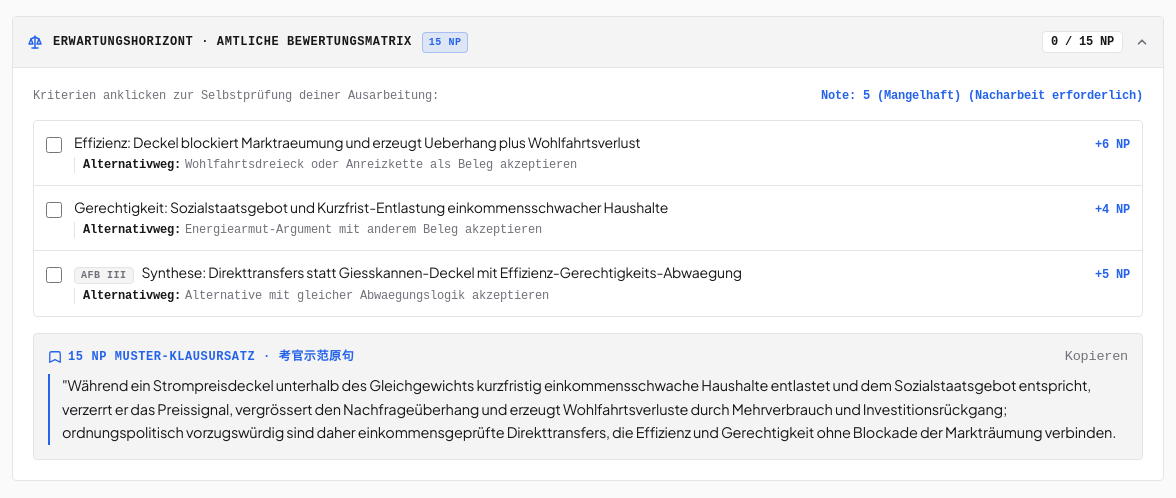
Test case: v5 Didactic Components & Parser Standalone Tests › ErwartungshorizontDrawer component tests › toggles collapse and expand
Expected: the text "Kriterien anklicken zur Selbstprüfung deiner Ausarbeitung:" is shown, [33,88,439,104]
Click the 1st button. click: coordinates (232, 42)
box: [13,17,1163,67]
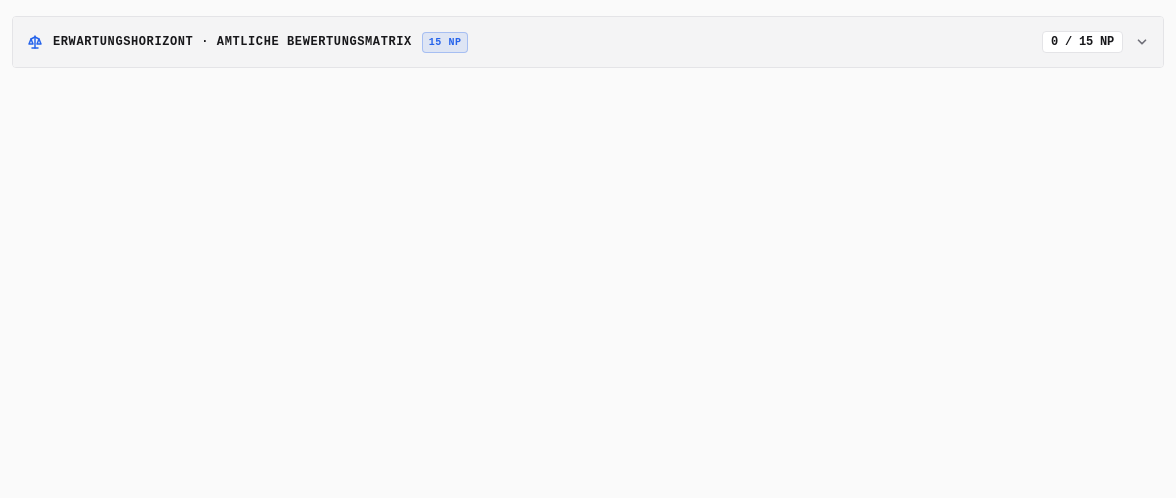
Expected: the text "Kriterien anklicken" is gone
